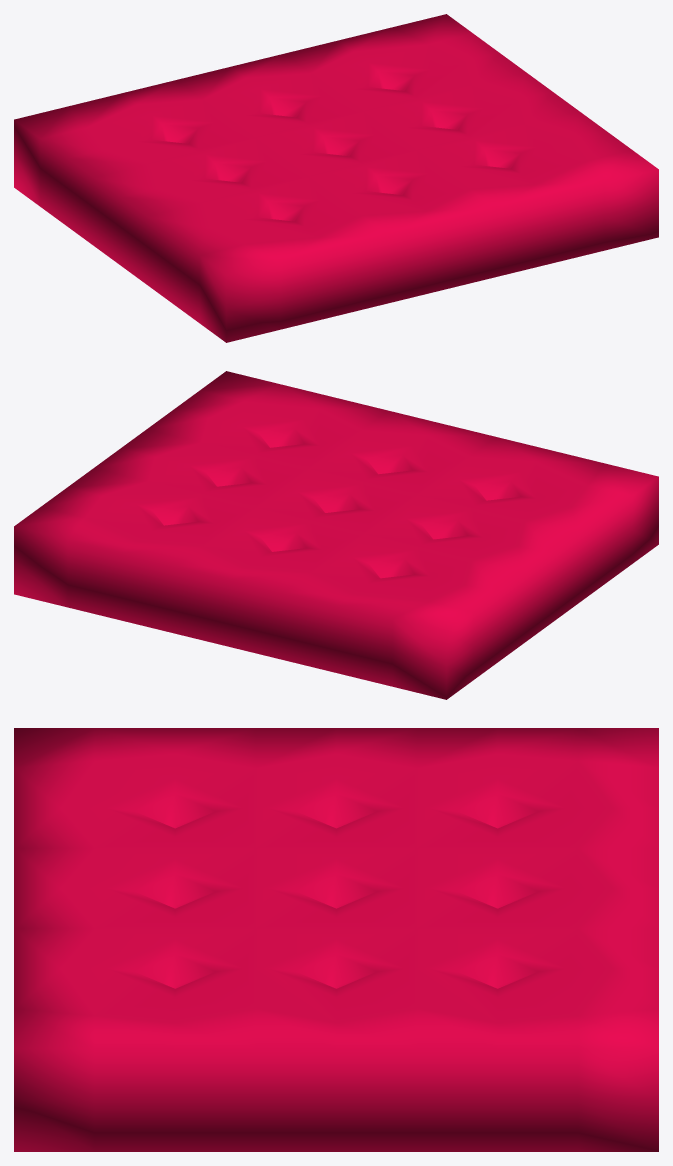
The model's file is cloth_internal_air_pressure.glb.
The picture shows the model from 3 angles, top to bottom: view 1: azimuth 30°, elevation 25°; view 2: azimuth 150°, elevation 25°; view 3: azimuth 270°, elevation 25°; orthographic projection. The views are drawn at different scales.
Visible parts, largest first — view 1: Pillow; view 2: Pillow; view 3: Pillow.
Boxes of the visible parts, x1=… form: Pillow: x1=14, y1=14, x2=658, y2=342; Pillow: x1=14, y1=371, x2=658, y2=699; Pillow: x1=14, y1=728, x2=658, y2=1151.
Size of what is drawn, in the model's own units: 4 by 0.6 by 3.4.
